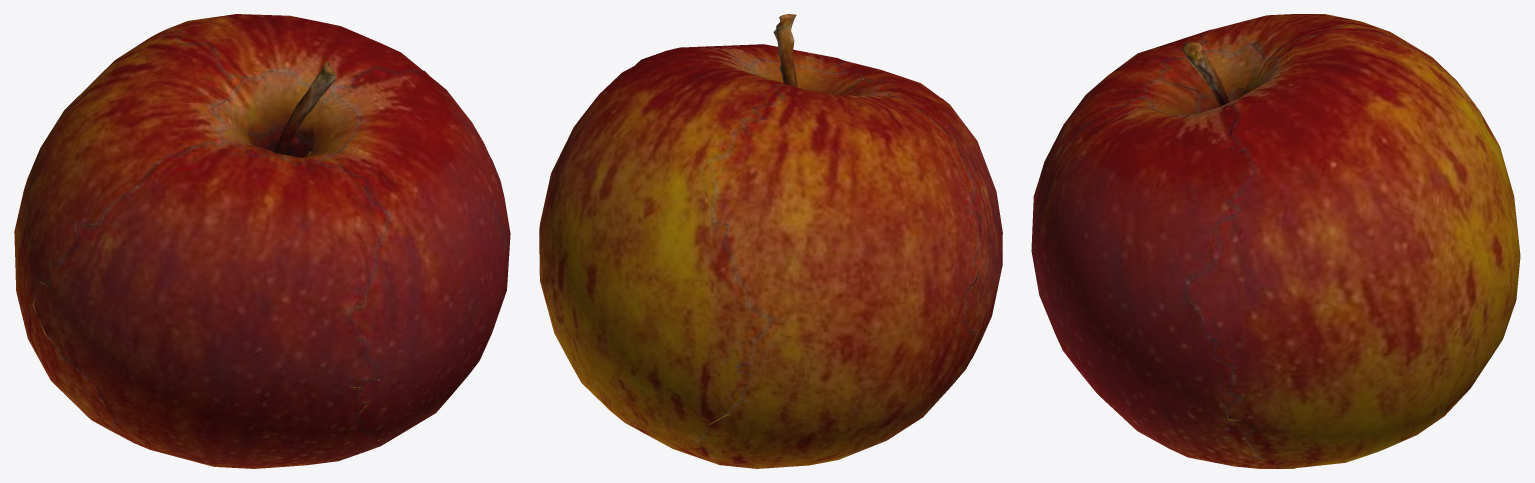
File: food_apple_01.glb
3 views of the same model, side by side, from view 1: azimuth 30°, elevation 25°; view 2: azimuth 150°, elevation 25°; view 3: azimuth 270°, elevation 25° (orthographic). The views are drawn at different scales.
Parts seen in each view (by area): view 1: food_apple_01; view 2: food_apple_01; view 3: food_apple_01.
Boxes of the visible parts, box(x1,y1,x2,y2) form: food_apple_01: box(14, 14, 510, 468); food_apple_01: box(539, 14, 1002, 468); food_apple_01: box(1031, 14, 1520, 468).
Bounding box in the file's own units: 0.0913 × 0.08 × 0.09.
1 material, 1 textured.
